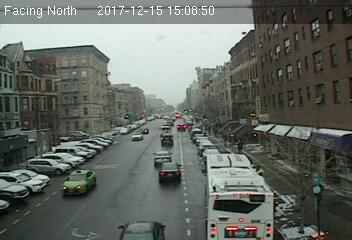bus: (204, 154, 277, 240)
car: (114, 219, 169, 239), (61, 169, 96, 194), (158, 161, 183, 181), (154, 151, 171, 165), (160, 134, 174, 146), (176, 123, 186, 131)
